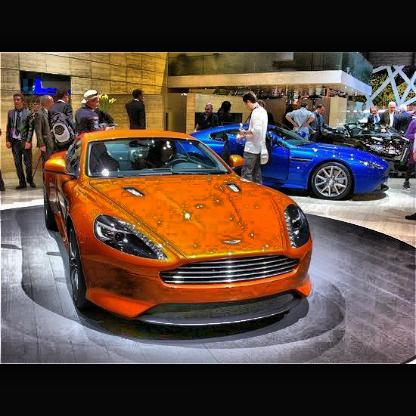Aston Martin Virage Coupe 2012: (44, 129, 315, 342)
